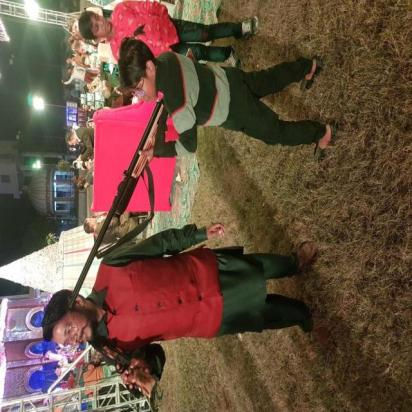Gun: (66, 43, 204, 310)
